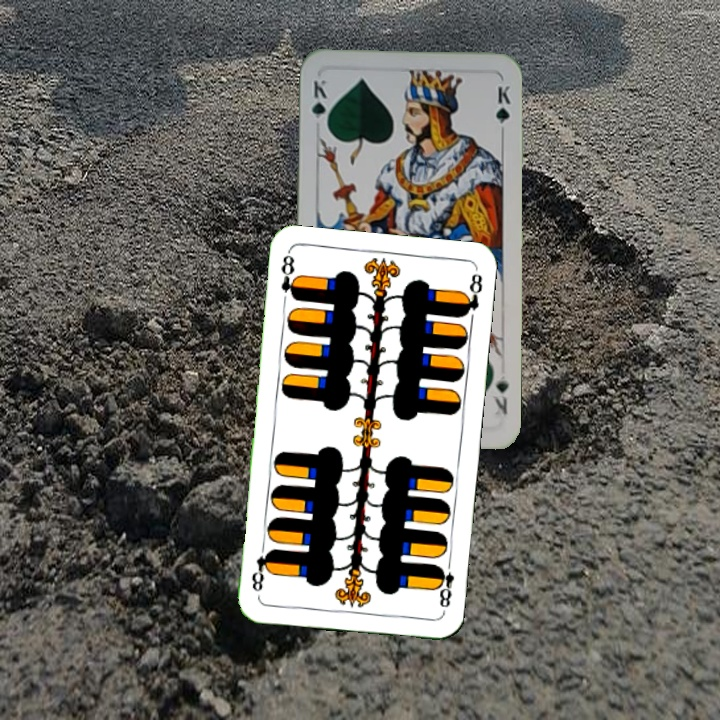E8: (431, 556, 457, 610), (276, 249, 301, 303)
GK: (307, 75, 330, 133), (489, 371, 511, 418)
